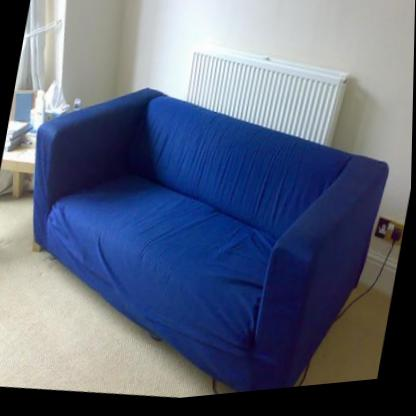Carpet: (0, 193, 222, 401)
Sofa: (0, 53, 402, 416)
